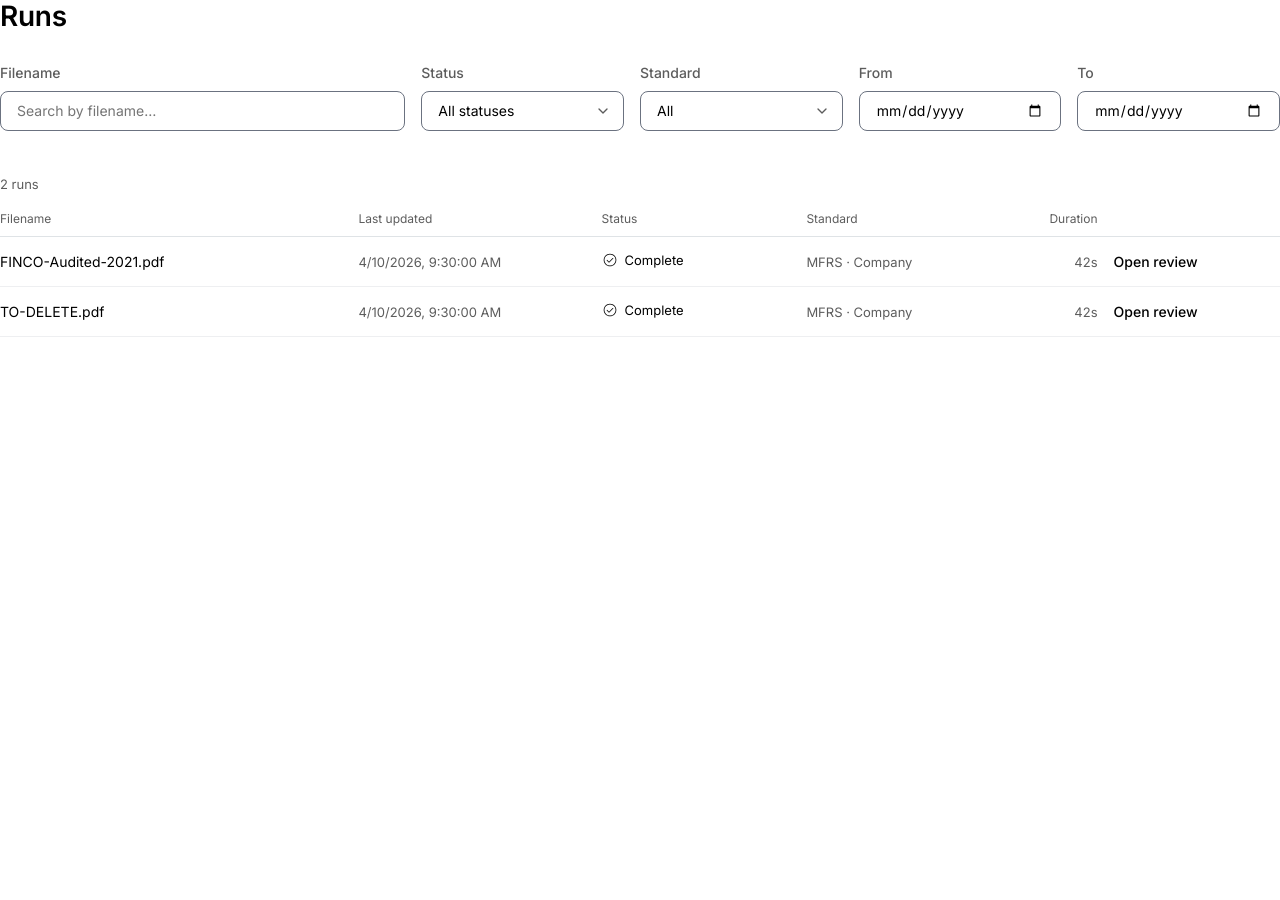
Test: HistoryPage › deleting from detail removes the row from the list
Step 1. Click the link "TO-DELETE.pdf" → (52, 312), box [0,301,104,322]
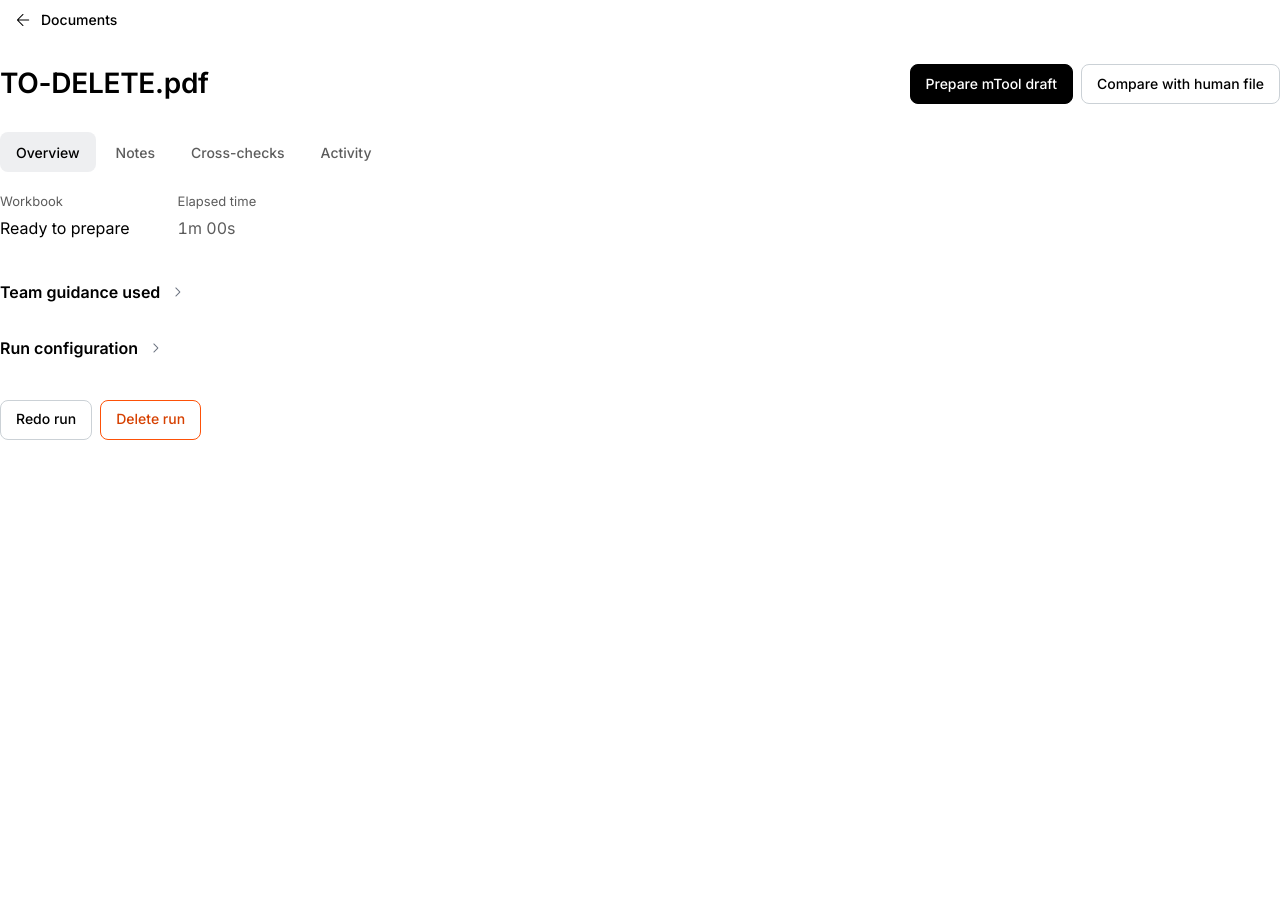
Check: the button "Delete run" is shown
Step 2. Click the button "Delete run" → (151, 420), box [100,400,201,440]
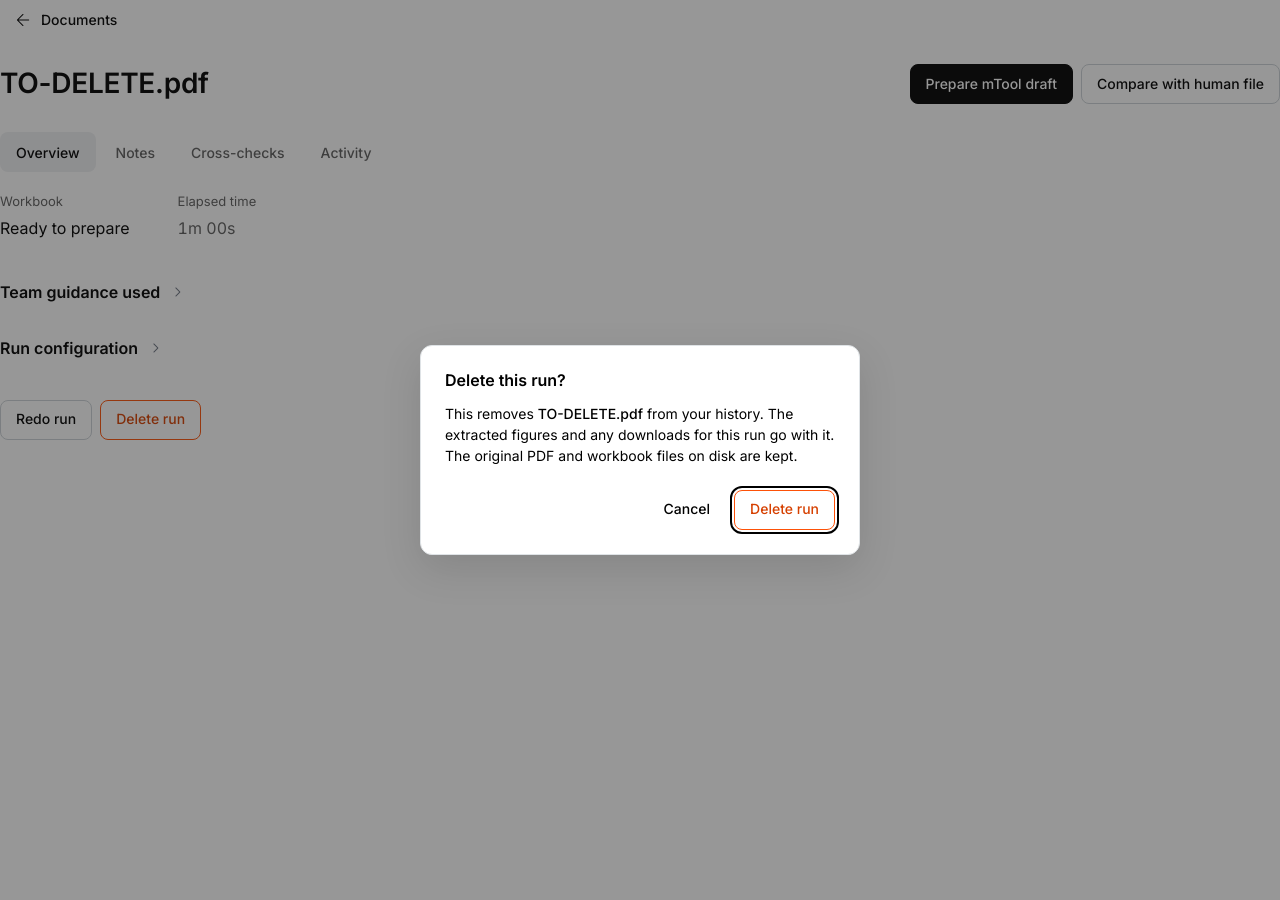
Step 3. Click the button "Delete run" → (785, 510), box [734,490,835,530]
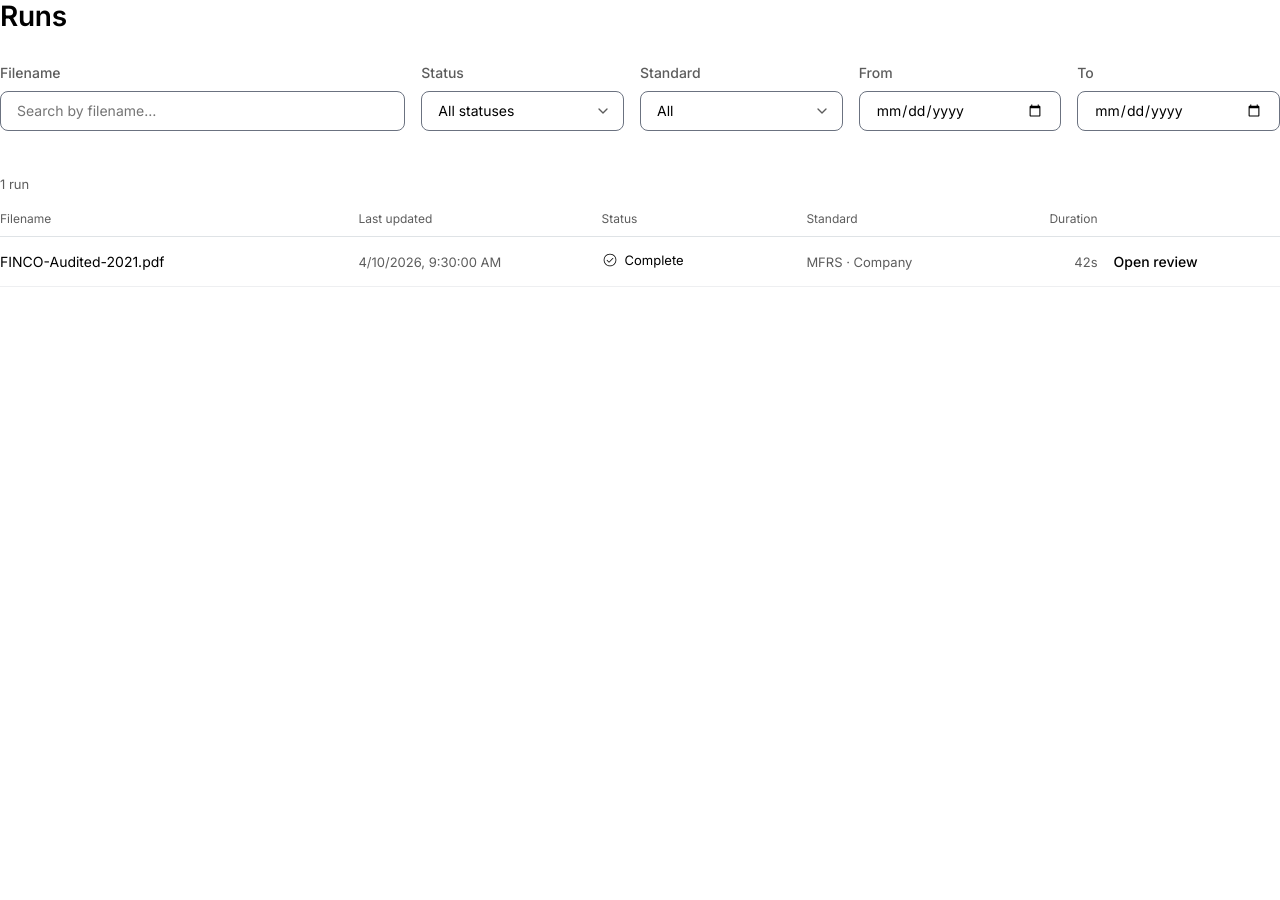
Check: the heading "TO-DELETE.pdf" is gone
